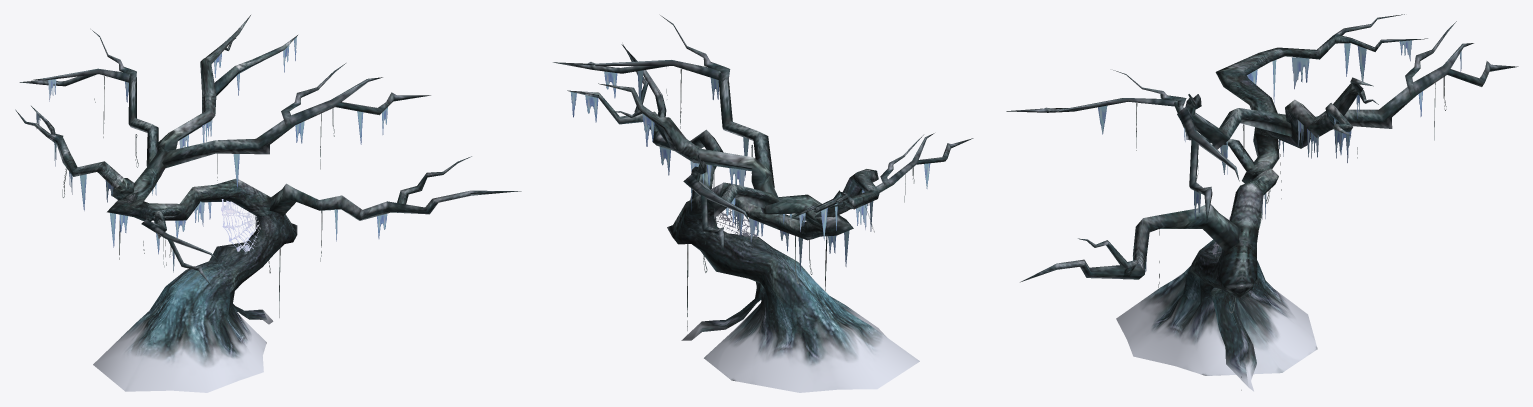
The model's file is 3-1_shu3.FBX.
3 renders of one model, left to right at view 1: azimuth 30°, elevation 25°; view 2: azimuth 150°, elevation 25°; view 3: azimuth 270°, elevation 25°, orthographic. The views are drawn at different scales.
Parts seen in each view (by area): view 1: 3-1_shu3; view 2: 3-1_shu3; view 3: 3-1_shu3.
Part boxes in pixels (x1,y1,x2,y2): 3-1_shu3: (15, 15, 521, 392); 3-1_shu3: (553, 15, 973, 392); 3-1_shu3: (1006, 14, 1518, 391).
Bounding box in the file's own units: 734 × 535 × 769.
